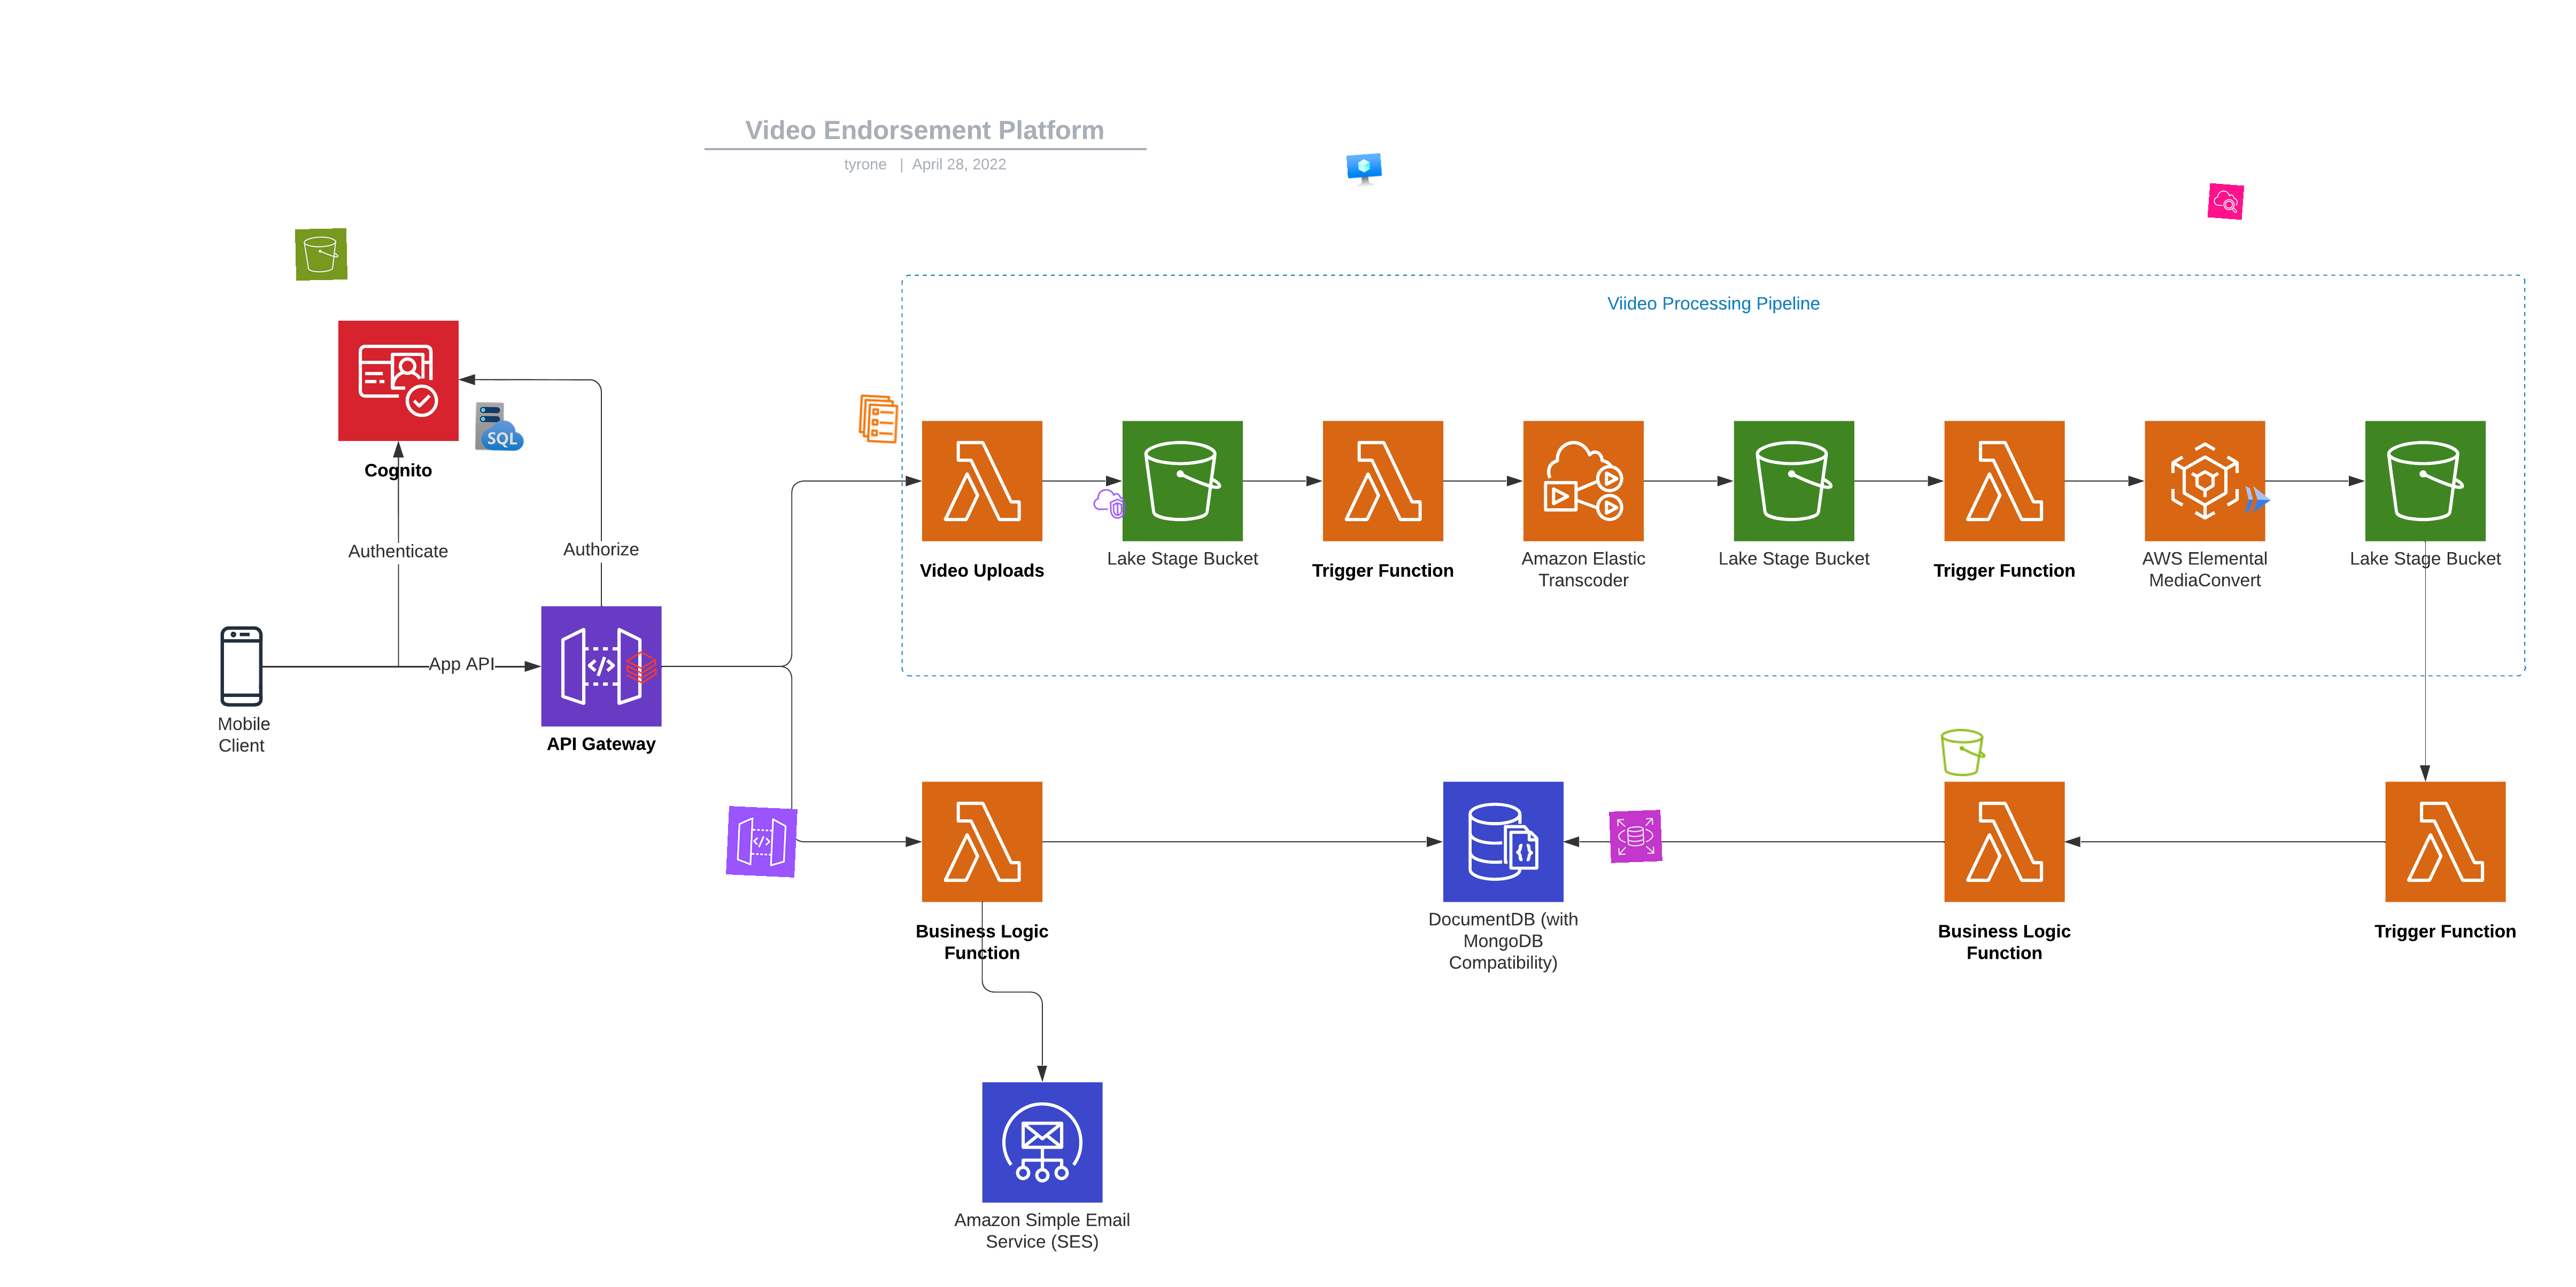aws_amazon_api_gateway: (726, 806, 797, 878)
aws_amazon_cloudwatch: (2206, 182, 2244, 220)
aws_amazon_rds: (1608, 809, 1663, 863)
aws_amazon_simple_storage_service: (294, 228, 348, 281)
aws_elastic_container_service_service: (851, 392, 907, 447)
aws_simple_storage_service_bucket: (1937, 726, 1990, 780)
aws_vpc_virtual_private_cloud_vpc: (1091, 486, 1127, 522)
azure_databricks: (623, 650, 660, 686)
azure_sql_managed_instance: (473, 401, 526, 453)
azure_virtual_machine: (1346, 153, 1383, 190)
gcp_cloud_run: (2239, 483, 2275, 517)
